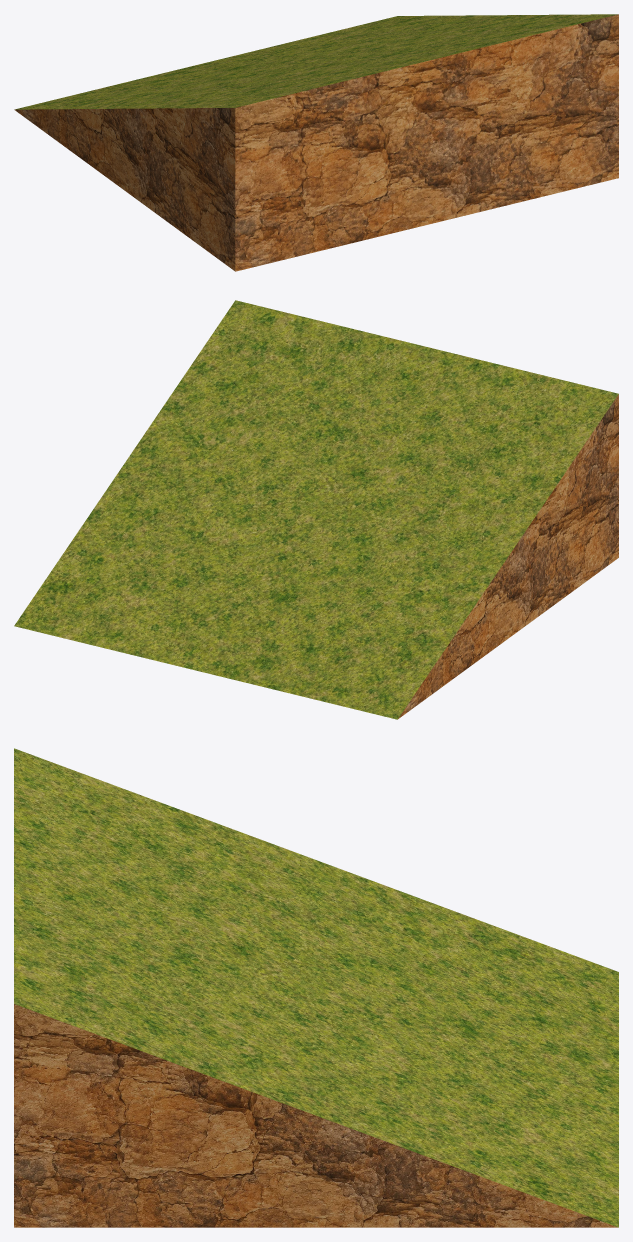
File: ramp.glb
3 renders of one model, top to bottom at view 1: azimuth 30°, elevation 25°; view 2: azimuth 150°, elevation 25°; view 3: azimuth 270°, elevation 25°, orthographic. The views are drawn at different scales.
Visible parts, largest first — view 1: ramp; view 2: ramp; view 3: ramp.
Boxes of the visible parts, x1,y1,x2,y2 form: ramp: (14, 14, 618, 271); ramp: (14, 300, 618, 719); ramp: (14, 748, 618, 1227).
Size of the model in its own units: 1 by 0.4082 by 1.
2 materials, 2 textured.
